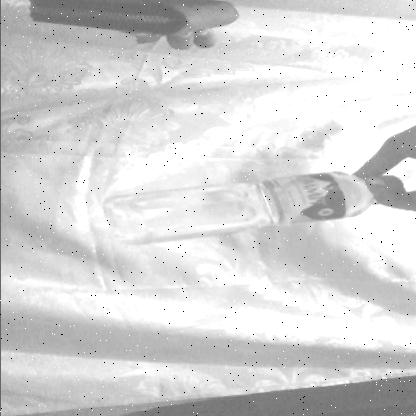Plastic Bottle: (77, 131, 413, 273)
